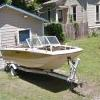Boat: (1, 32, 85, 84)
